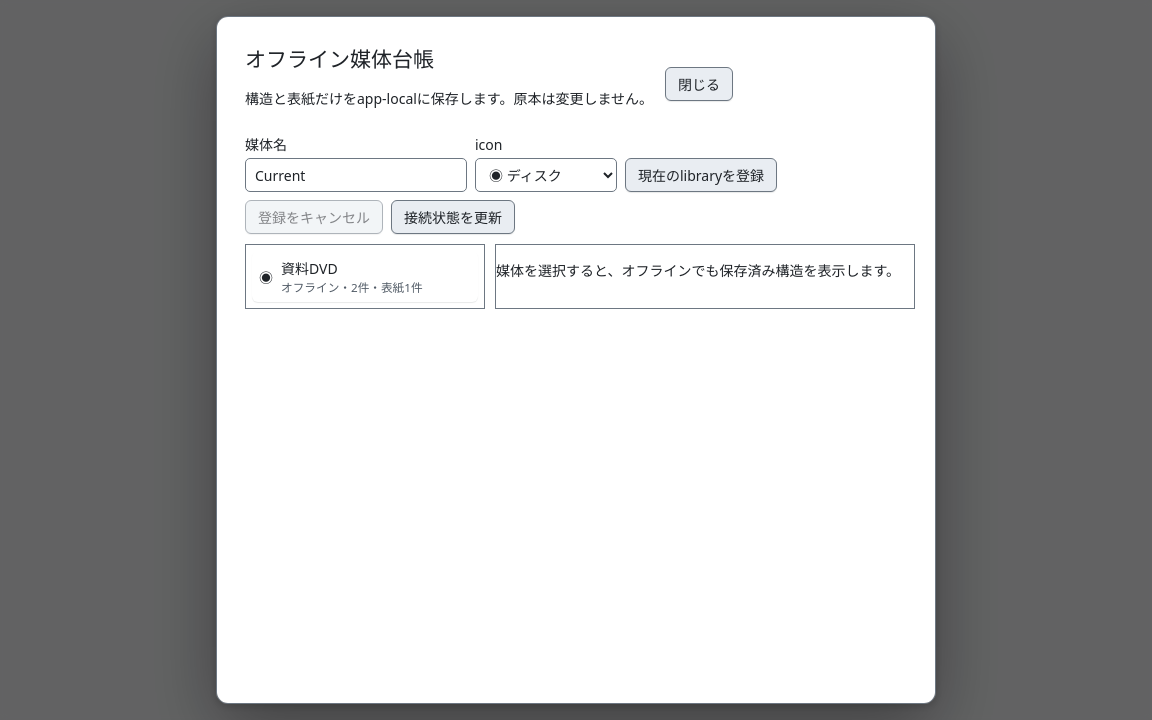
MediaCatalogDialog › REQ-LEY-P5-001 lists the saved tree while offline and keeps open disabled
The image size is (1152, 720).
Click the button "◉ 資料DVD オフライン・2件・表紙1件" at x=365, y=277, box [252,251,478,302]
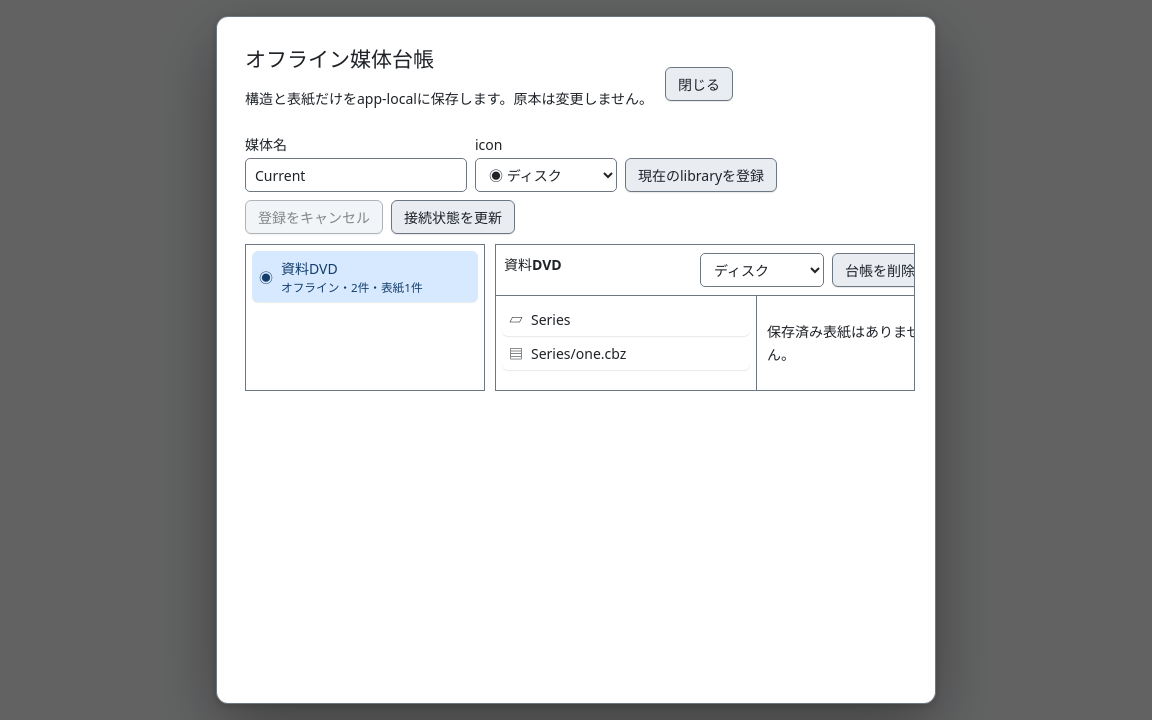
Check: the button "▤ Series/one.cbz" is shown
Click the button "▤ Series/one.cbz" at x=626, y=353, box [502,336,750,370]
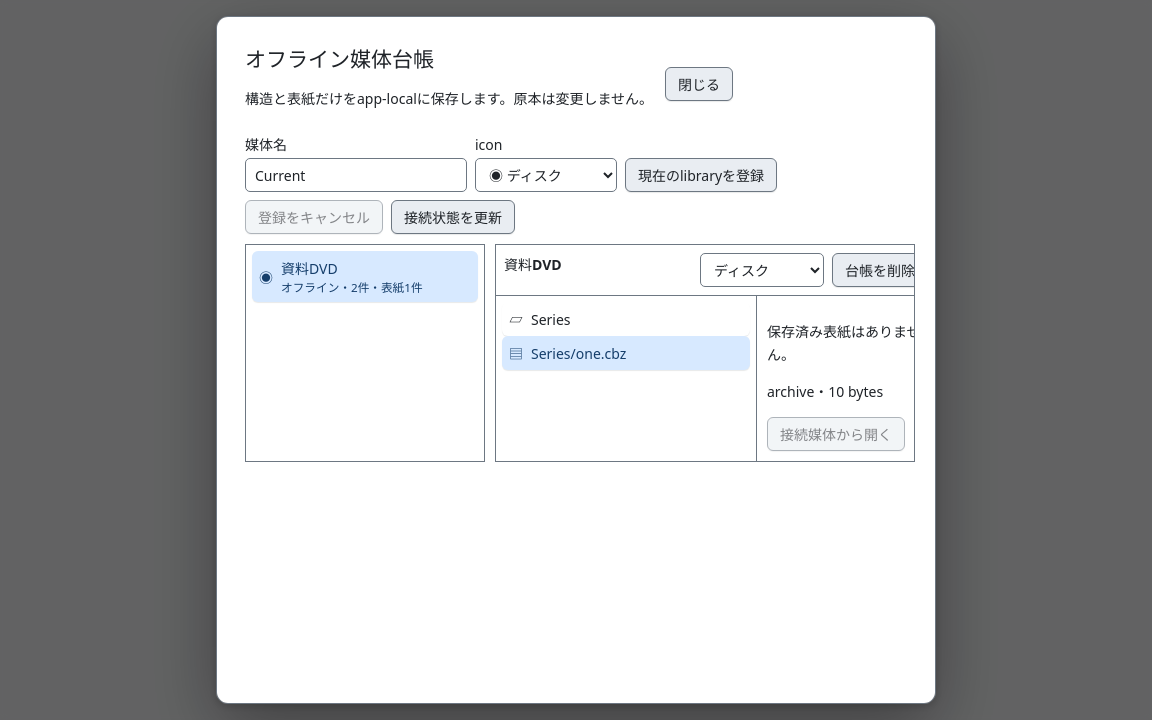
Check: the text "オフライン・2件・表紙1件" is shown, box [281,280,423,295]
Check: the button "接続媒体から開く" is disabled, box [767,417,905,451]
